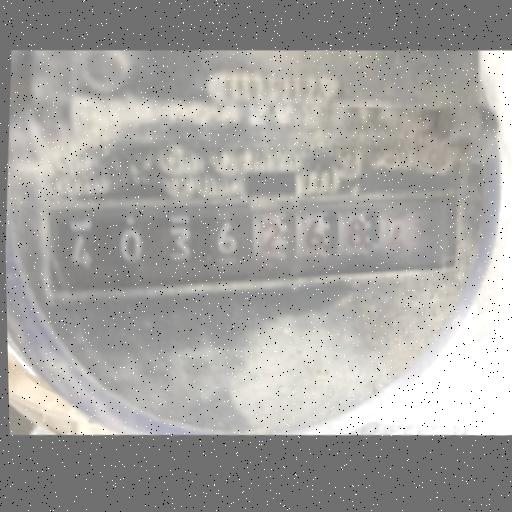0: (105, 203, 158, 290)
2: (246, 197, 293, 283)
3: (157, 201, 205, 289)
4: (57, 203, 109, 292), (374, 195, 428, 275)
6: (202, 198, 251, 285), (291, 196, 335, 279)
8: (332, 196, 378, 276)
border_water_meter_number: (34, 150, 466, 324)
